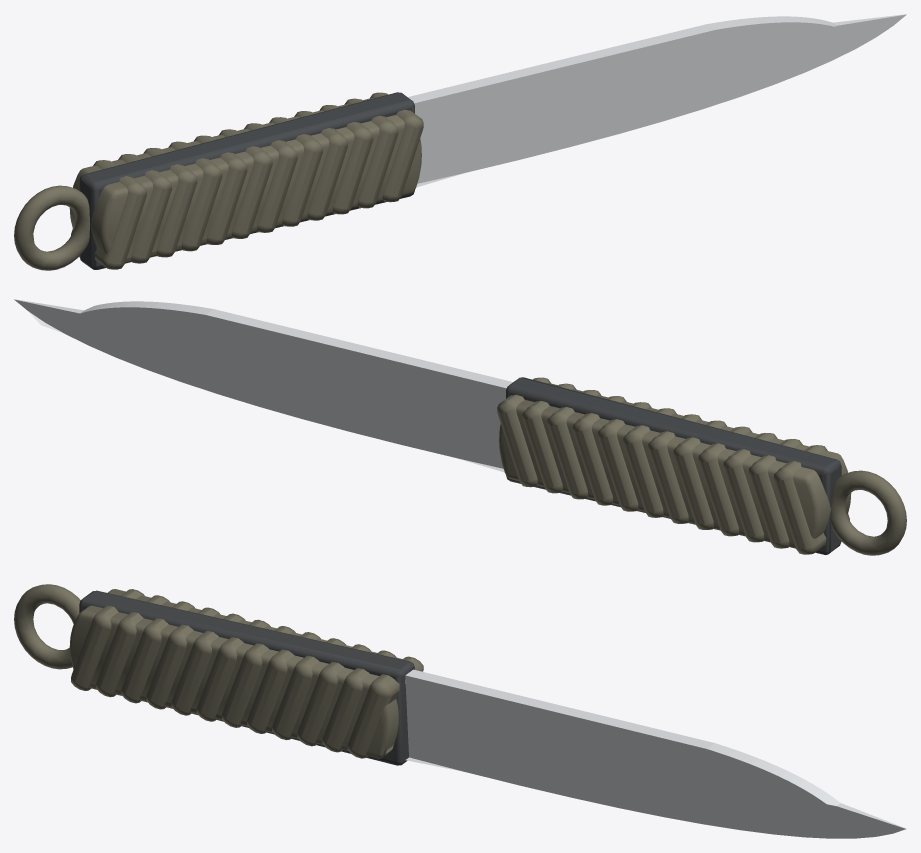
Rendered from knife_cord.glb.
3 views of the same model, one above another, from view 1: azimuth 30°, elevation 25°; view 2: azimuth 150°, elevation 25°; view 3: azimuth 330°, elevation 25° (orthographic).
Visible parts, largest first — view 1: lod_skin_blade, lod_detail_cord, lod_metal_dark; view 2: lod_skin_blade, lod_detail_cord, lod_metal_dark; view 3: lod_skin_blade, lod_detail_cord, lod_metal_dark.
Part boxes in pixels (x1=…): lod_skin_blade: x1=408, y1=14, x2=906, y2=187; lod_detail_cord: x1=14, y1=92, x2=423, y2=270; lod_metal_dark: x1=79, y1=92, x2=414, y2=269; lod_skin_blade: x1=14, y1=299, x2=512, y2=472; lod_detail_cord: x1=497, y1=377, x2=906, y2=555; lod_metal_dark: x1=506, y1=377, x2=841, y2=554; lod_skin_blade: x1=405, y1=669, x2=906, y2=838; lod_detail_cord: x1=14, y1=584, x2=423, y2=758; lod_metal_dark: x1=79, y1=590, x2=414, y2=765.
Size of the model in its own units: 0.319 by 0.0329 by 0.025.
